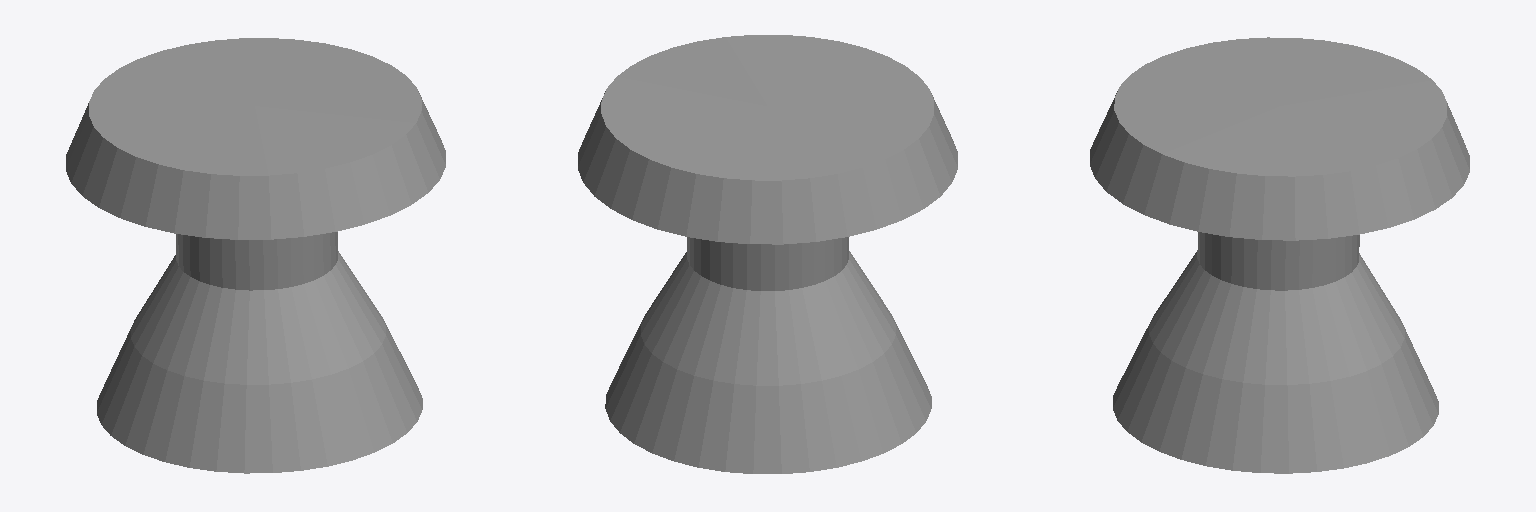
Rendered from whiterook.obj.
3 views of the same model, side by side, from view 1: azimuth 30°, elevation 25°; view 2: azimuth 150°, elevation 25°; view 3: azimuth 270°, elevation 25° (orthographic).
Visible parts, largest first — view 1: Cube; view 2: Cube; view 3: Cube.
Boxes of the visible parts, x1,y1,x2,y2 form: Cube: [66, 38, 445, 473]; Cube: [578, 35, 957, 473]; Cube: [1090, 37, 1469, 473].
Size of the model in its own units: 4.64 by 4.07 by 4.64.